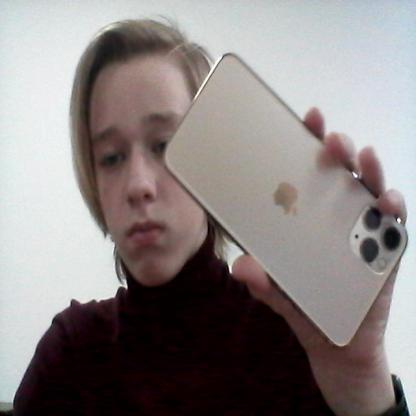phone: (160, 50, 402, 352)
